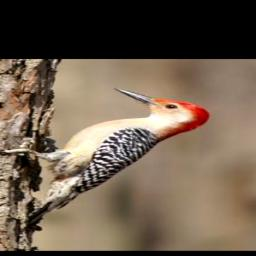Woodpecker: (0, 87, 215, 225)
